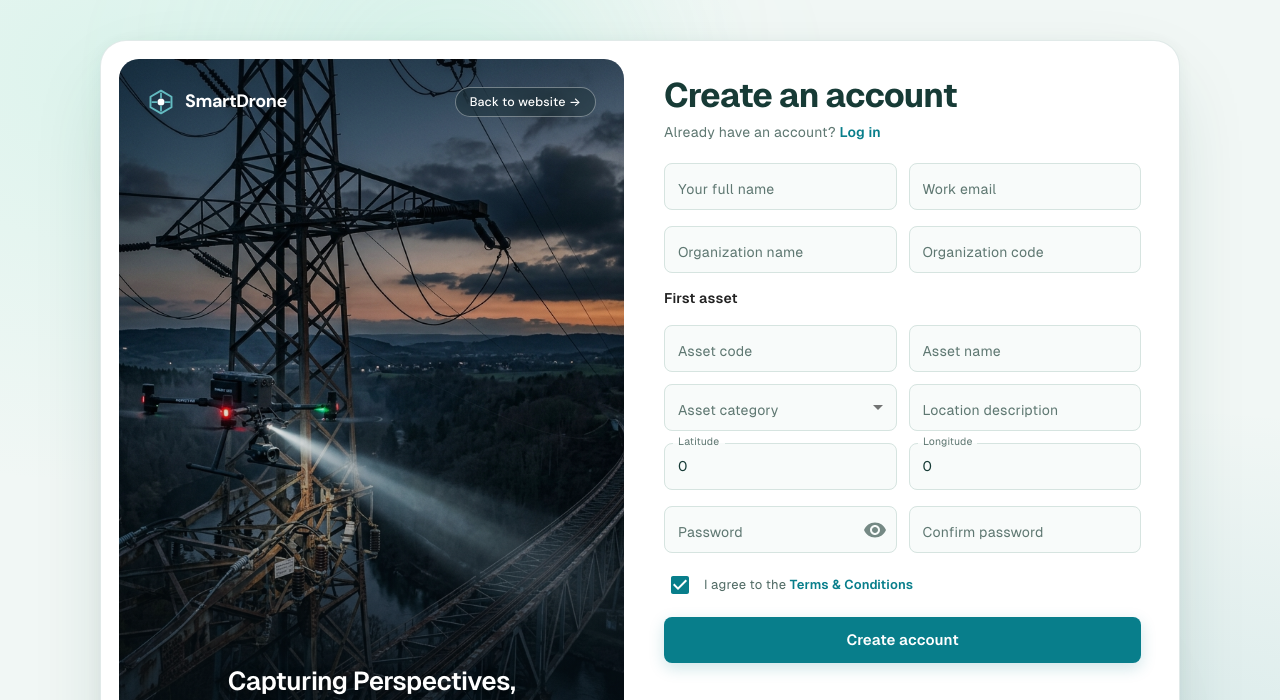
Test: customer organization registration › requires the first asset and its location as part of registration
Click the button "Create account": click(902, 640) [664, 617, 1141, 663]
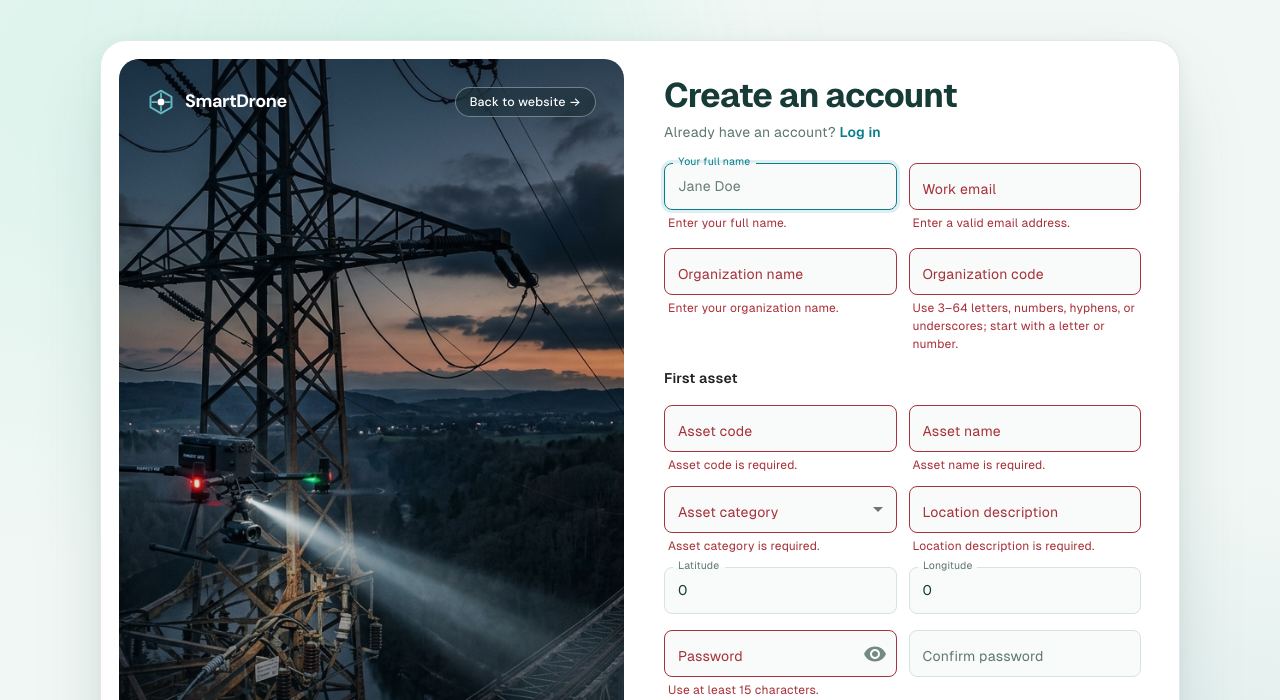
Check: the text "Asset code is required." is shown, box [668, 458, 797, 472]
